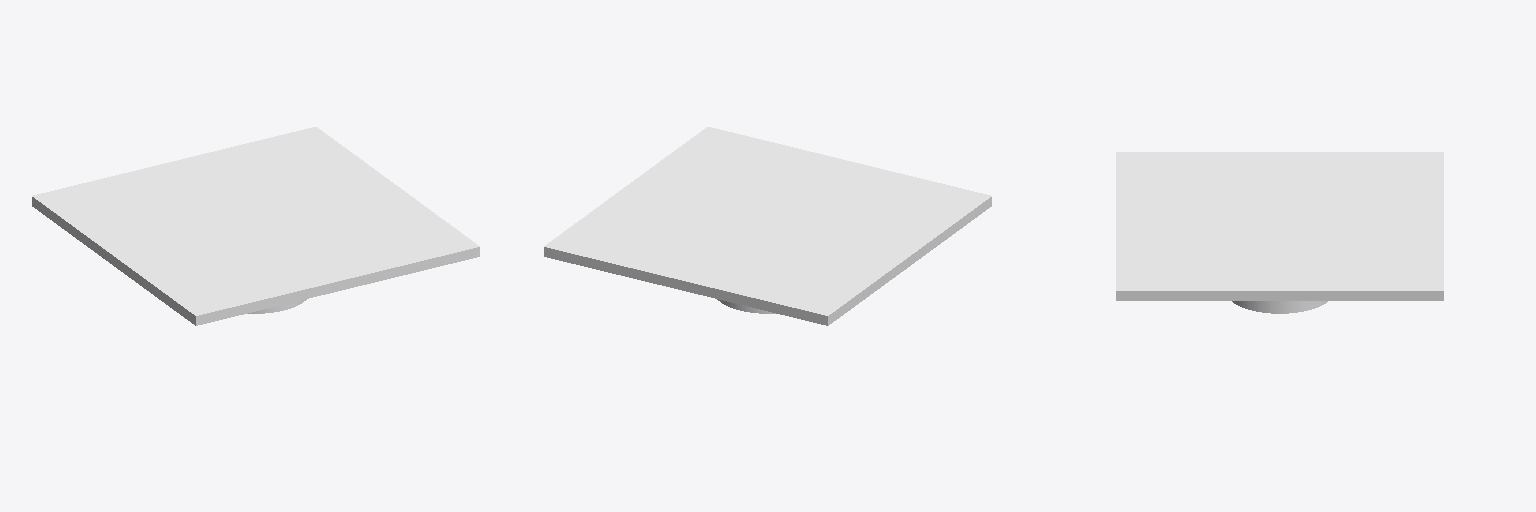
File: Gimbalpart_static.obj
The picture shows the model from 3 angles: view 1: azimuth 30°, elevation 25°; view 2: azimuth 150°, elevation 25°; view 3: azimuth 270°, elevation 25°; orthographic projection.
Parts seen in each view (by area): view 1: Object.1; view 2: Object.1; view 3: Object.1, Object.2.
Boxes of the visible parts, <box> form: Object.1: <box>32,127,479,325</box>; Object.1: <box>544,127,991,325</box>; Object.1: <box>1116,152,1443,300</box>; Object.2: <box>1232,301,1327,313</box>.
Size of the model in its own units: 150 by 34.91 by 150.